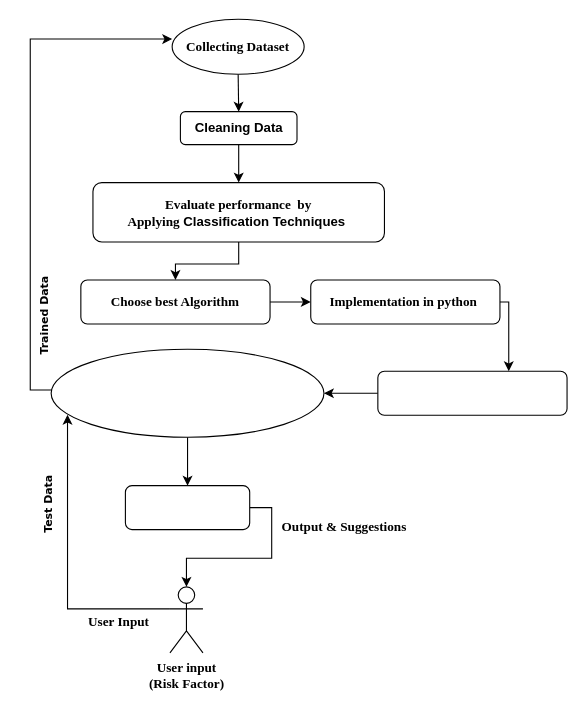
This 586x712 diagram has some shape labels left out. Here are the shapes that lost their labels. From the top down, the centre of each, then its label:
At (x=187, y=392): "Deploy Risk Prediction Feature with Best Algorithm for End User Tool".
At (x=472, y=392): "Generate a decision tree and extract condition from it".
At (x=187, y=507): "Result".
